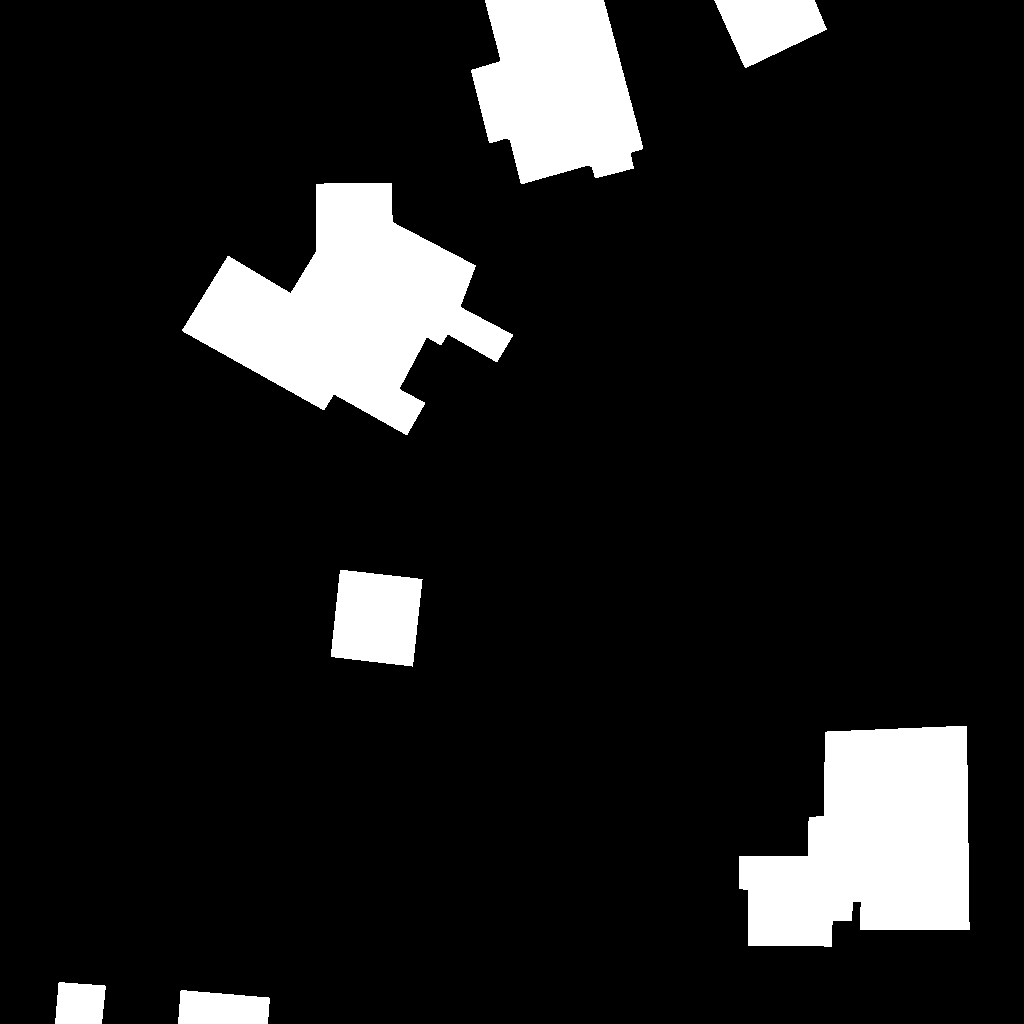building: (182, 183, 514, 436), (739, 726, 970, 947), (471, 0, 644, 185), (55, 982, 271, 1024), (331, 570, 423, 667), (714, 0, 828, 69)
